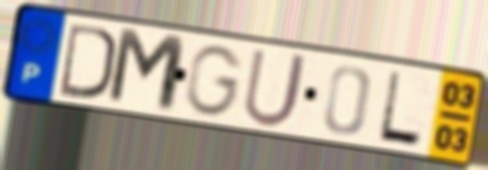0: (320, 63, 374, 137)
D: (57, 19, 118, 103)
G: (184, 42, 247, 119)
L: (375, 67, 425, 150)
M: (103, 24, 190, 117)
U: (239, 45, 311, 130)
